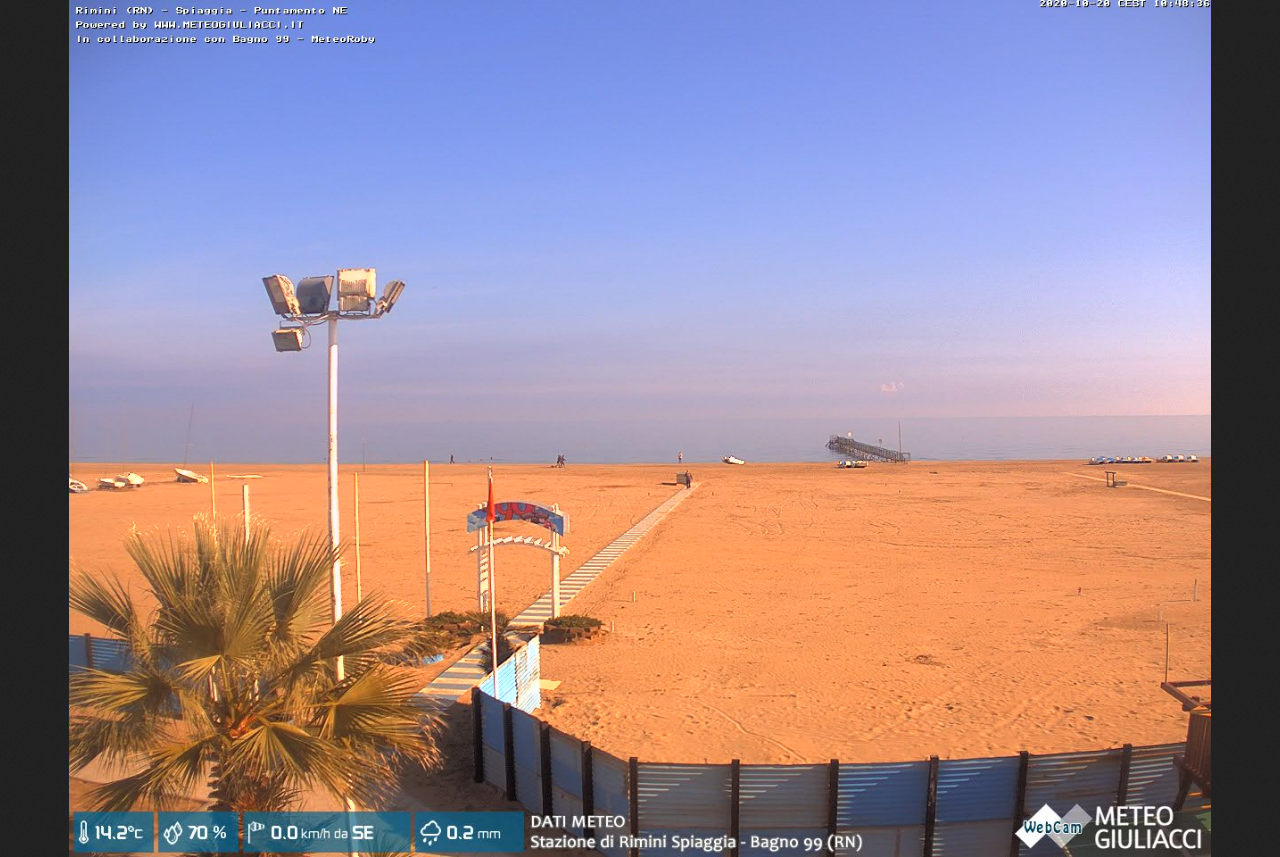no: (487, 476, 494, 525)
